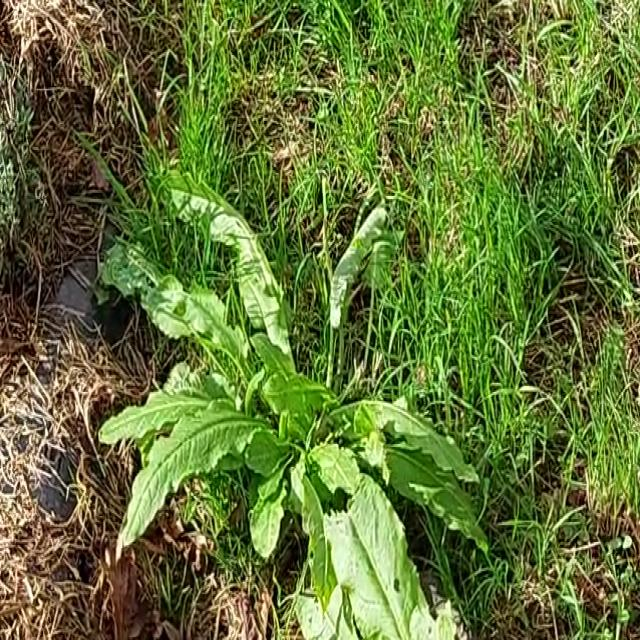organic waste: (104, 153, 478, 620)
